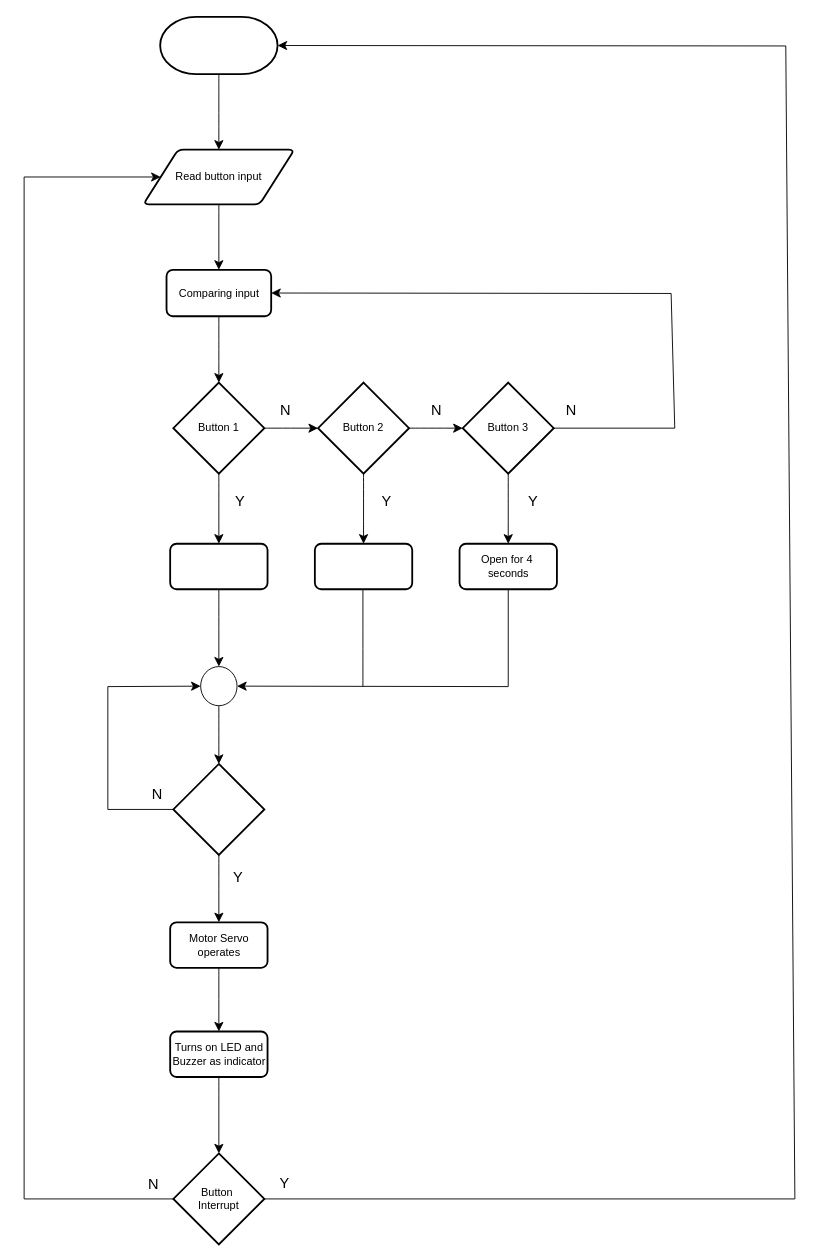
Image size: 820x1260. Some labels were removed from this diagram. Here are the shapes that lost their labels. From the top down, the centre of each, then its label:
At (x=218, y=45): "AquaFeed Idle State".
At (x=218, y=566): "Open for 2 seconds".
At (x=363, y=566): "Open for 3 seconds".
At (x=218, y=809): "Timer reach 0 seconds".
